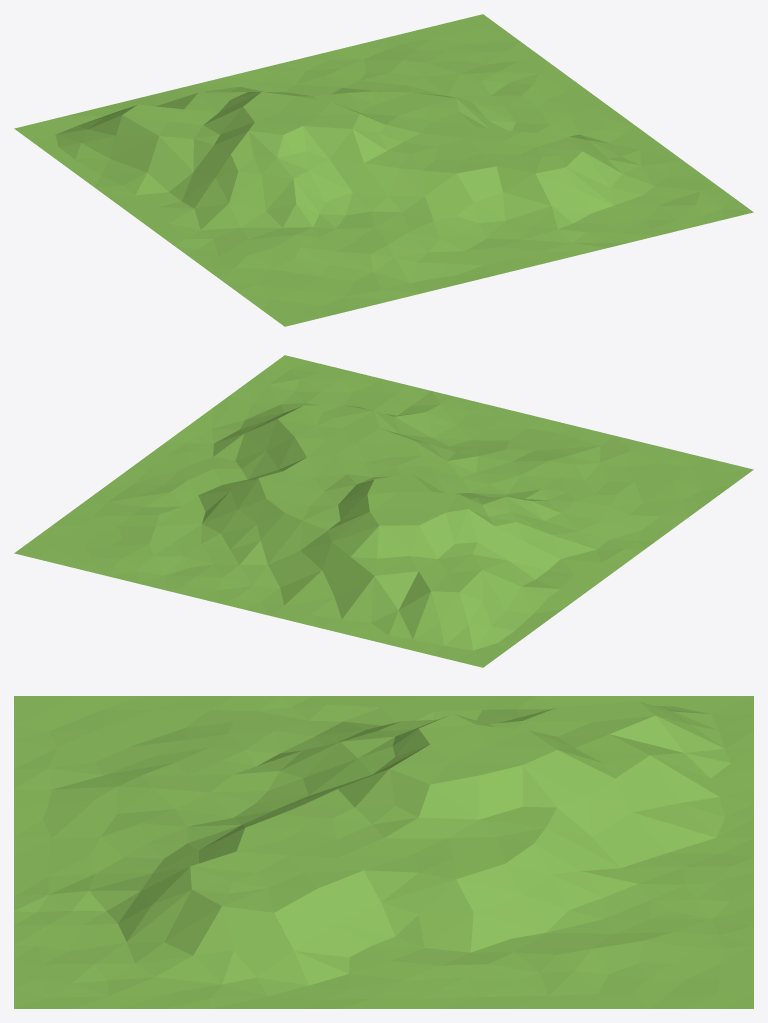
File: MT_Terrain_M_c_12_LOD.fbx
3 renders of one model, top to bottom at view 1: azimuth 30°, elevation 25°; view 2: azimuth 150°, elevation 25°; view 3: azimuth 270°, elevation 25°, orthographic. The views are drawn at different scales.
Parts seen in each view (by area): view 1: MT_Terrain_M_c_12_LOD0; view 2: MT_Terrain_M_c_12_LOD0; view 3: MT_Terrain_M_c_12_LOD0.
Boxes of the visible parts, box(x1,y1,x2,y2) form: MT_Terrain_M_c_12_LOD0: box(14, 14, 753, 326); MT_Terrain_M_c_12_LOD0: box(14, 355, 753, 667); MT_Terrain_M_c_12_LOD0: box(14, 696, 753, 1008).
Size of what is drawn, in the model's own units: 5000 by 496 by 5000.
